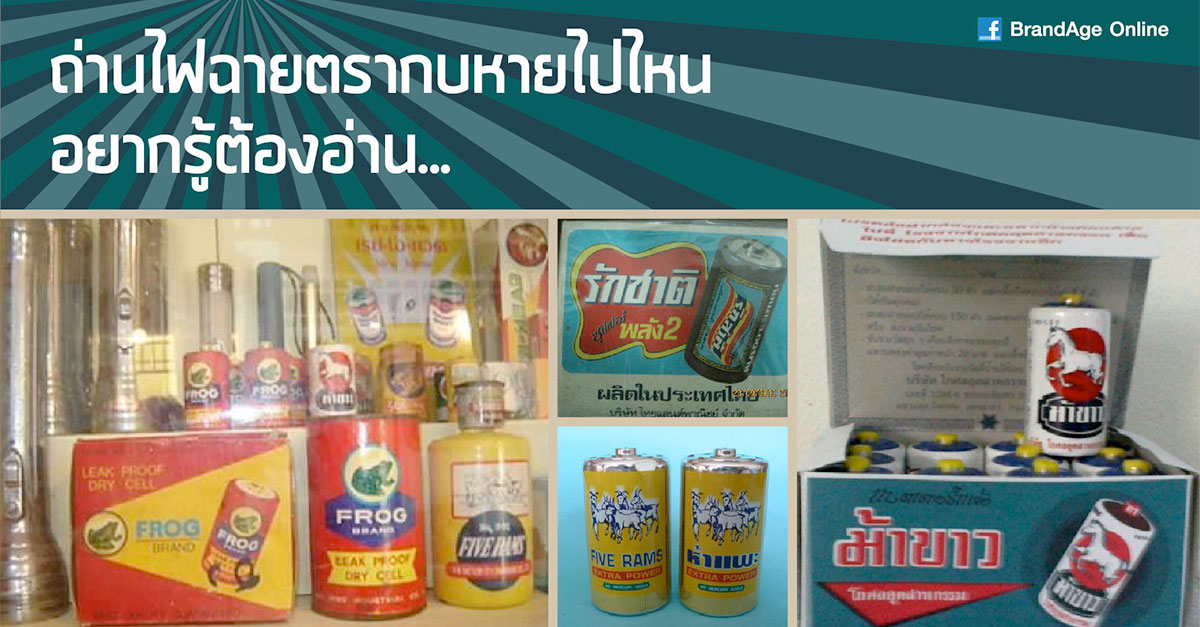Battery: (674, 444, 773, 623), (580, 444, 675, 620), (1022, 290, 1114, 459)
